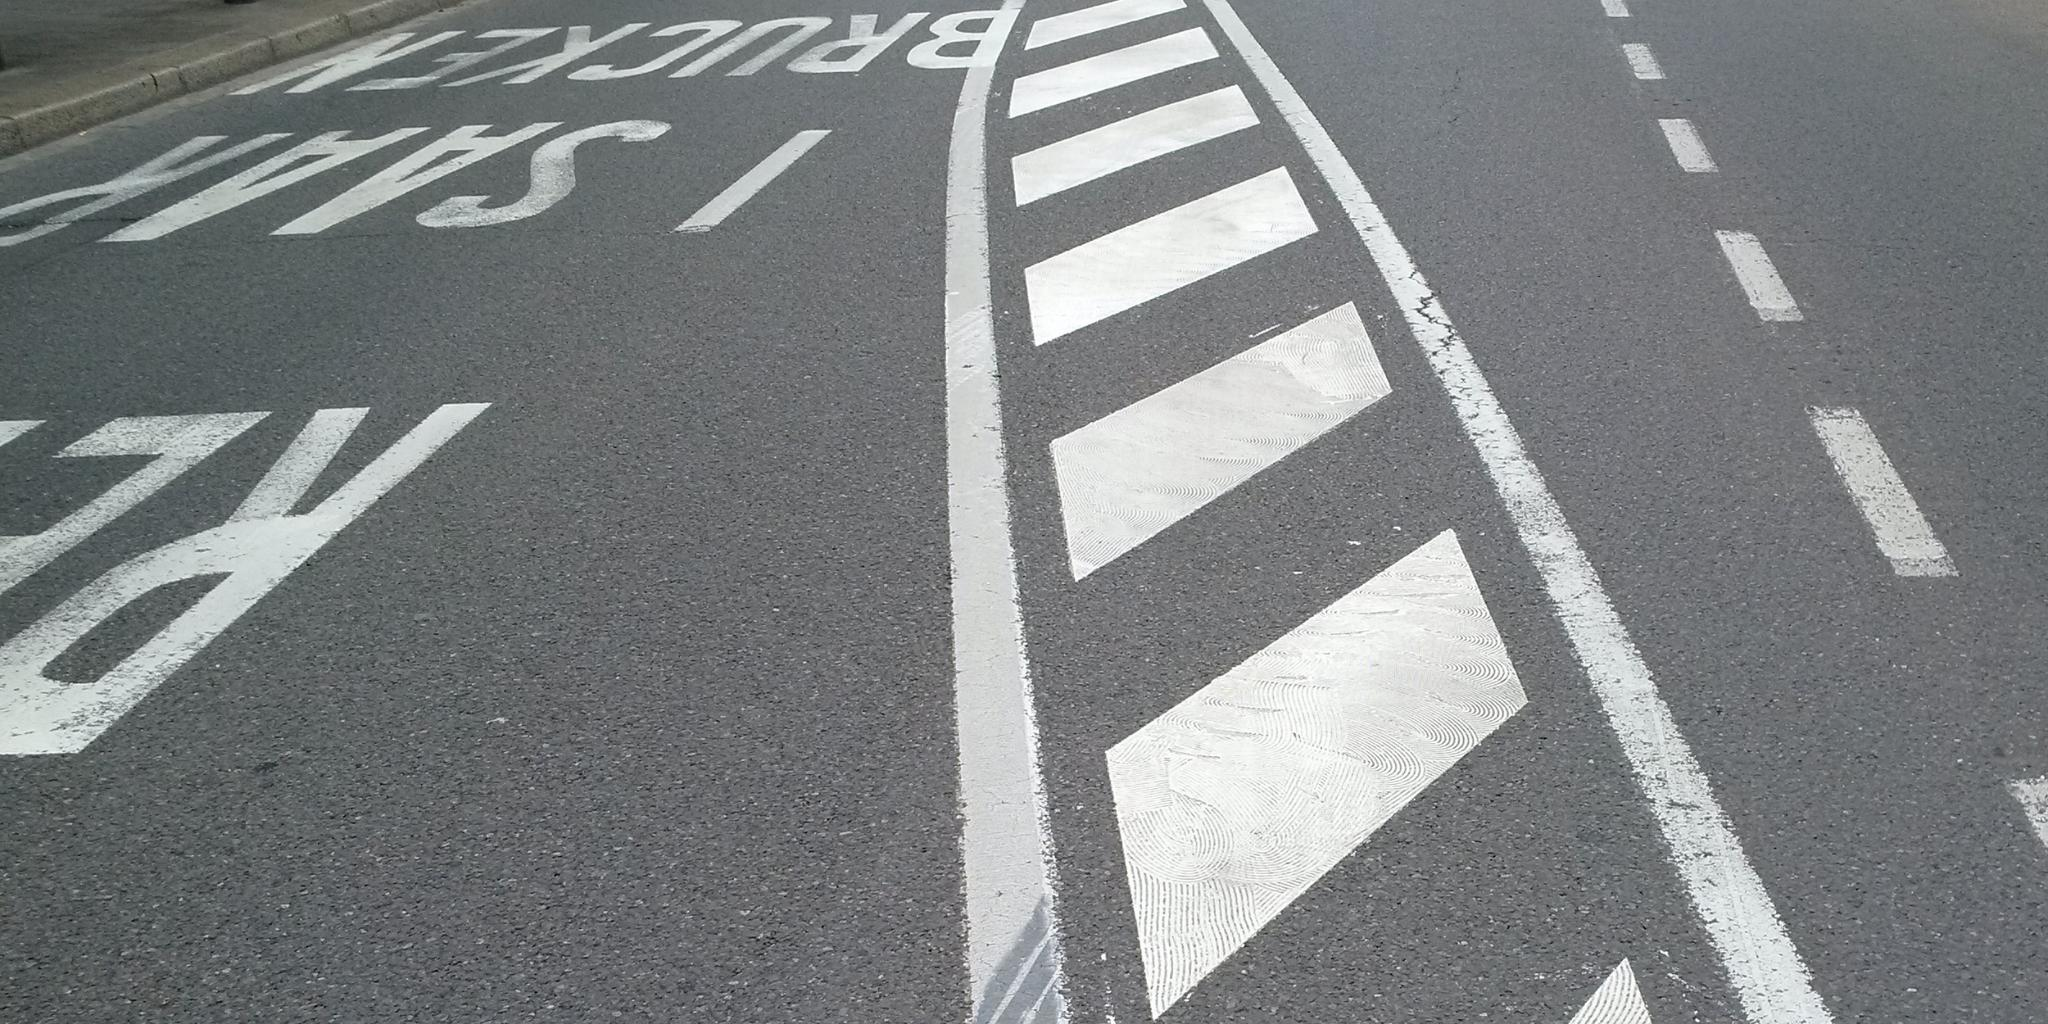faded_road_lines: (1203, 0, 1831, 1023), (0, 404, 488, 754), (946, 0, 1062, 1020), (232, 10, 994, 94), (0, 411, 270, 593), (101, 128, 428, 242), (269, 121, 560, 234), (0, 133, 291, 246), (417, 120, 670, 227), (1805, 408, 1958, 577), (1714, 231, 1804, 321), (687, 157, 793, 227), (2001, 773, 2047, 856), (1659, 119, 1718, 172), (0, 216, 65, 246), (1622, 43, 1664, 78), (0, 419, 44, 447), (786, 129, 827, 155), (1954, 756, 1983, 771)
